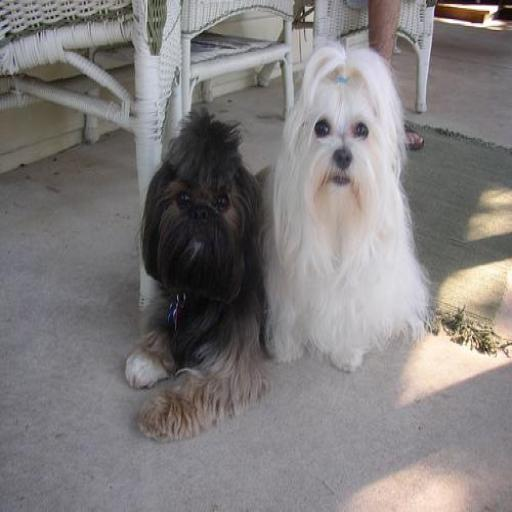dog_face: (292, 53, 398, 198)
